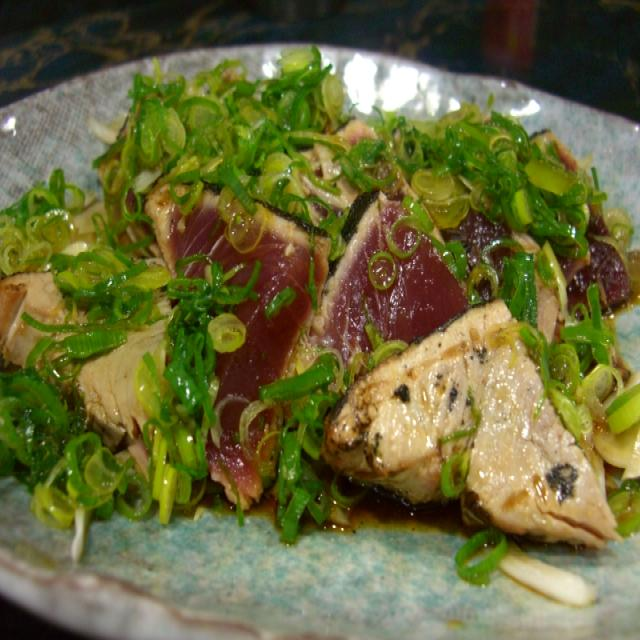熟制海鲜: (36, 91, 640, 565)
